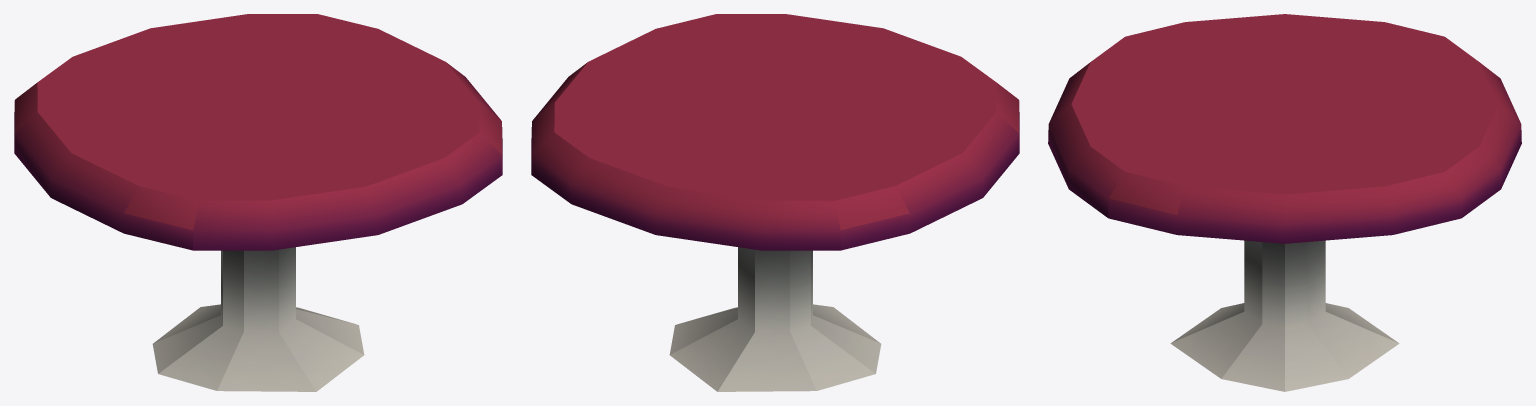
Rendered from propTable_mesh.fbx.
3 views of the same model, side by side, from view 1: azimuth 30°, elevation 25°; view 2: azimuth 150°, elevation 25°; view 3: azimuth 270°, elevation 25° (orthographic).
Parts seen in each view (by area): view 1: table; view 2: table; view 3: table.
Boxes of the visible parts, box(x1,y1,x2,y2) form: table: box(14, 14, 502, 391); table: box(531, 14, 1019, 391); table: box(1048, 14, 1521, 391).
Bounding box in the file's own units: 1.01 × 0.5619 × 1.01.
